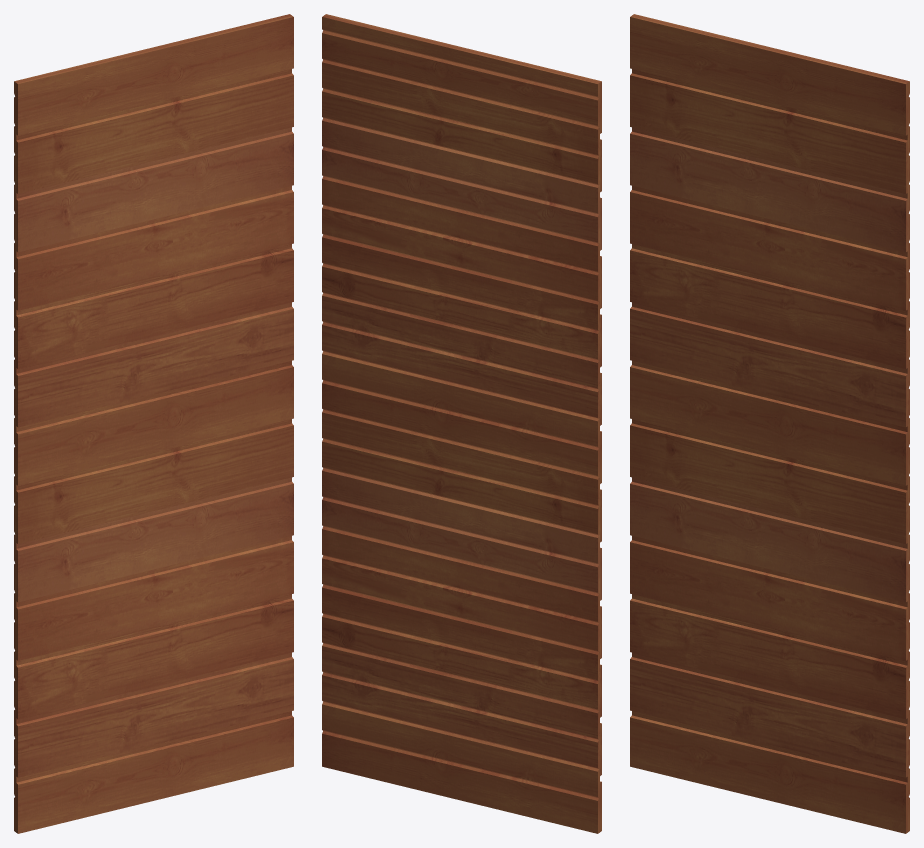
The picture shows the model from 3 angles, left to right: view 1: azimuth 30°, elevation 25°; view 2: azimuth 150°, elevation 25°; view 3: azimuth 330°, elevation 25°; orthographic projection.
Parts seen in each view (by area): view 1: plank004, plank013, plank002, plank003, plank005, plank007, plank010, plank011, plank008, plank009, plank012, plank001 (+1 smaller); view 2: plank001, plank002, plank003, plank004, plank013, plank005, plank008, plank007, plank009, plank012, plank011, plank010 (+1 smaller); view 3: plank004, plank013, plank002, plank003, plank005, plank007, plank010, plank011, plank008, plank009, plank012, plank001 (+1 smaller).
Part boxes in pixels (x1,y1,x2,y2): plank004: (14, 536, 293, 660); plank013: (14, 69, 293, 193); plank002: (14, 652, 293, 777); plank003: (14, 594, 293, 719); plank005: (14, 477, 293, 602); plank007: (14, 419, 293, 543); plank010: (14, 244, 293, 368); plank011: (14, 185, 293, 310); plank008: (14, 360, 293, 485); plank009: (14, 302, 293, 427); plank012: (14, 127, 293, 252); plank001: (14, 711, 293, 833); plank001: (322, 702, 601, 833); plank002: (322, 643, 601, 775); plank003: (322, 585, 601, 717); plank004: (322, 526, 601, 658); plank013: (322, 59, 601, 192); plank005: (322, 468, 601, 600); plank008: (322, 351, 601, 483); plank007: (322, 410, 601, 542); plank009: (322, 293, 601, 425); plank012: (322, 118, 601, 250); plank011: (322, 176, 601, 308); plank010: (322, 235, 601, 367); plank004: (630, 536, 909, 660); plank013: (630, 69, 909, 193); plank002: (630, 652, 909, 777); plank003: (630, 594, 909, 719); plank005: (630, 477, 909, 602); plank007: (630, 419, 909, 543); plank010: (630, 244, 909, 368); plank011: (630, 185, 909, 310); plank008: (630, 360, 909, 485); plank009: (630, 302, 909, 427); plank012: (630, 127, 909, 252); plank001: (630, 711, 909, 833).
Size of the model in its own units: 30.03 by 78.01 by 0.748.
6 materials, 6 textured.
